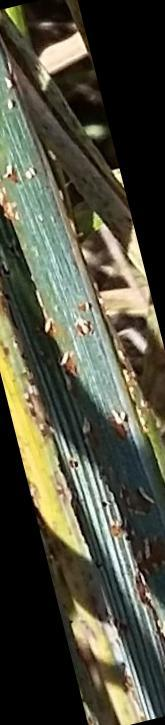Wheat: (0, 157, 38, 222), (97, 478, 147, 527), (131, 551, 165, 620), (73, 297, 95, 339), (61, 344, 81, 388), (107, 408, 128, 437), (37, 307, 56, 335)
